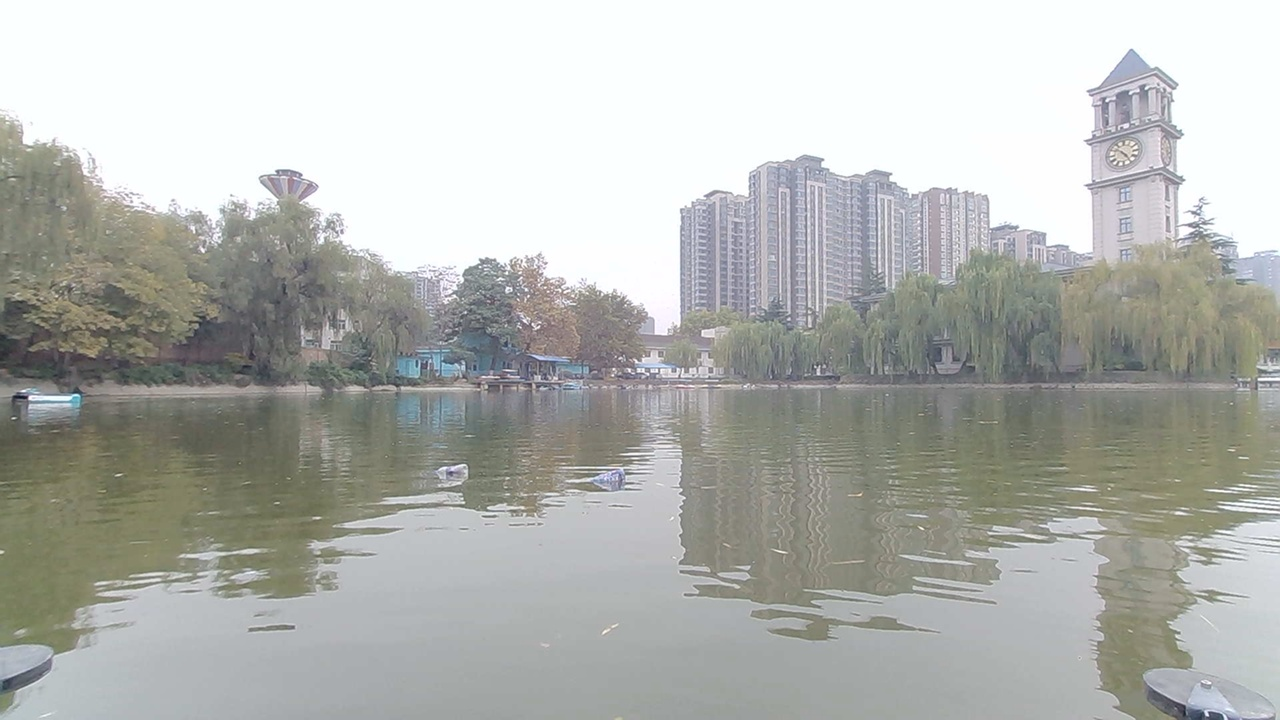bottle: (430, 457, 469, 483), (596, 472, 629, 489)
